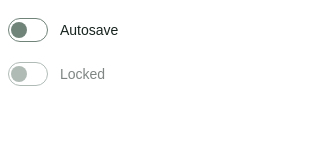
Test: selection controls › toggles a switch from its label and keeps disabled switches unchanged
Later steps or results of the test are not shown.
Click the text "Autosave": [89, 30] box [60, 20, 118, 40]
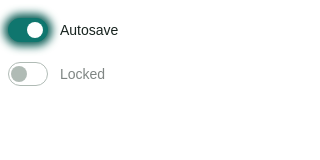
Result: the switch named "Autosave" next to "Autosave" is checked at [8, 18, 48, 42]
